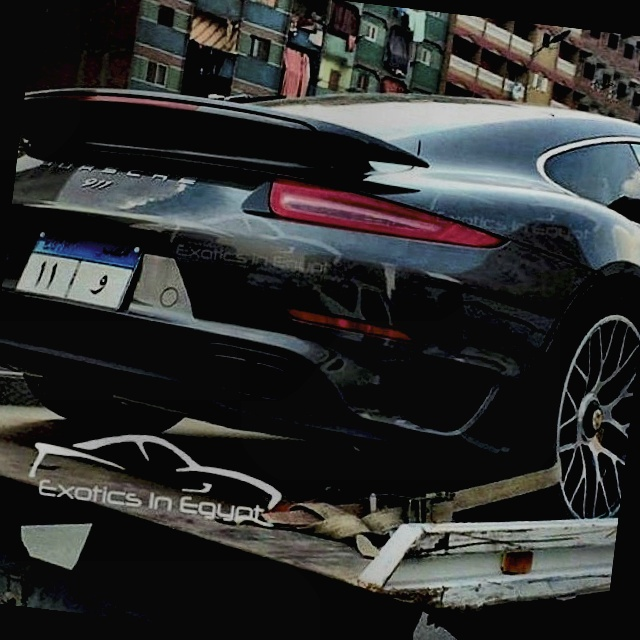License Plate: (8, 221, 149, 317)
